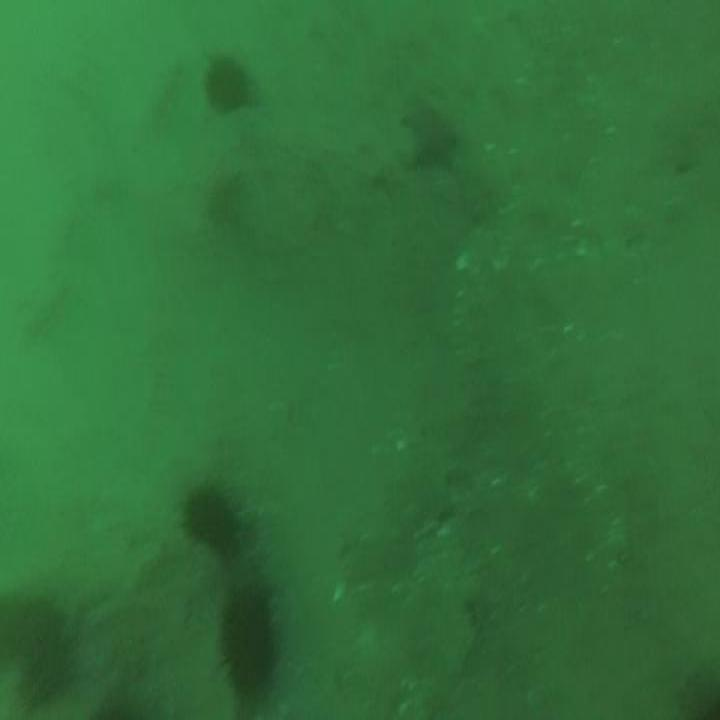echinus: (212, 562, 291, 706), (179, 482, 257, 578), (203, 48, 252, 121)
starfish: (401, 92, 461, 185)
